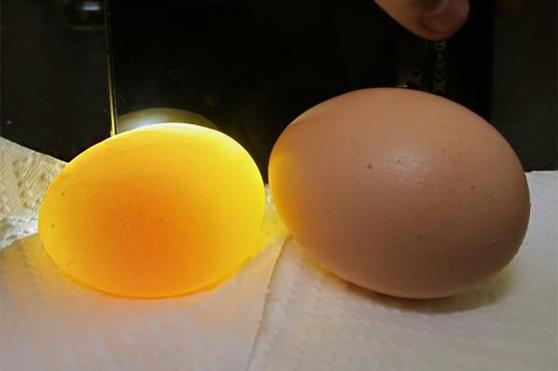egg: (268, 85, 532, 299)
